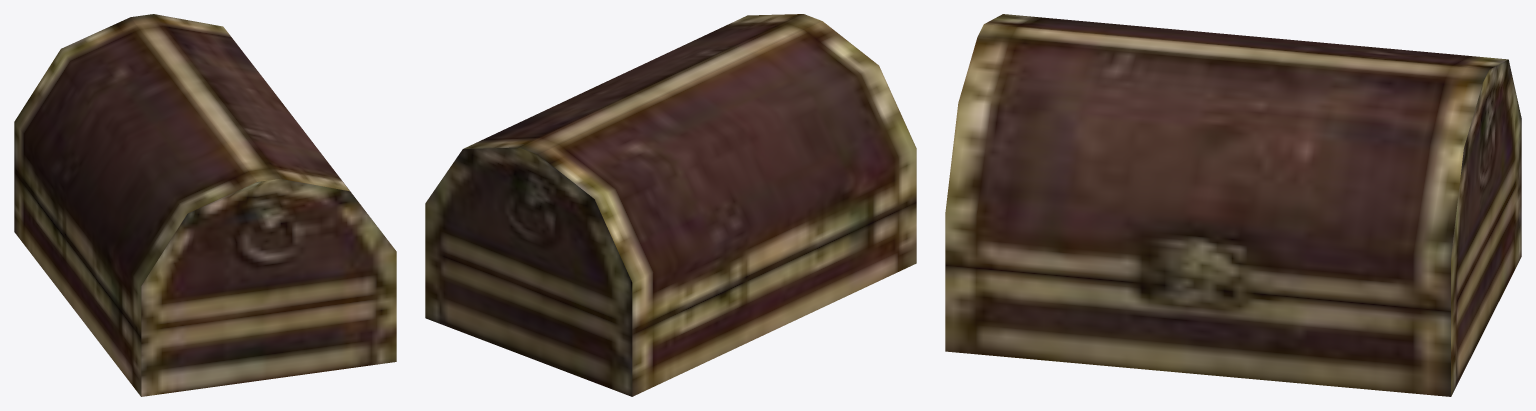
Rendered from toy74.obj.
The picture shows the model from 3 angles, left to right: view 1: azimuth 30°, elevation 25°; view 2: azimuth 150°, elevation 25°; view 3: azimuth 270°, elevation 25°; orthographic projection. The views are drawn at different scales.
Visible parts, largest first — view 1: toy74; view 2: toy74; view 3: toy74.
Boxes of the visible parts, x1=… form: toy74: x1=14, y1=14, x2=396, y2=396; toy74: x1=425, y1=14, x2=916, y2=396; toy74: x1=945, y1=14, x2=1521, y2=396.
Bounding box in the file's own units: 8.39 × 5.3 × 11.02.
